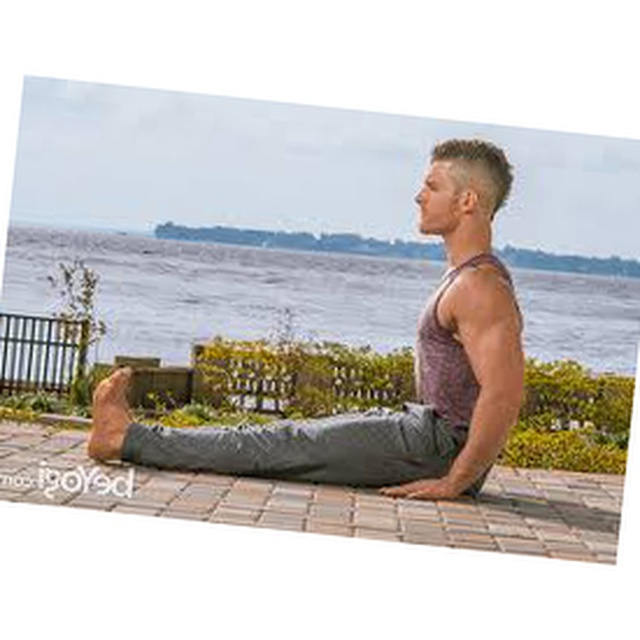Staff_Pose: (87, 136, 525, 500)
